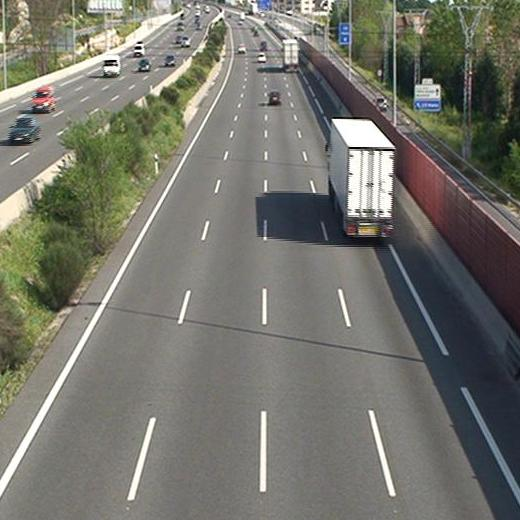car: (269, 91, 281, 102), (256, 53, 266, 63)
truck: (329, 118, 394, 238), (282, 39, 298, 72)
